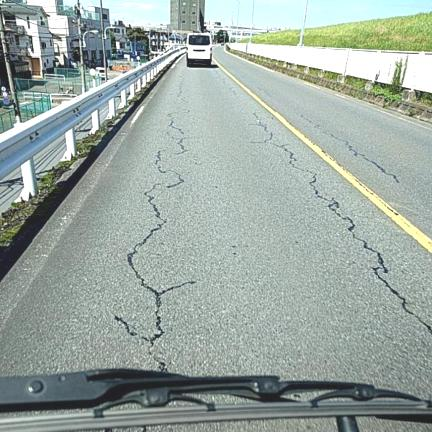Road: (0, 60, 431, 396)
